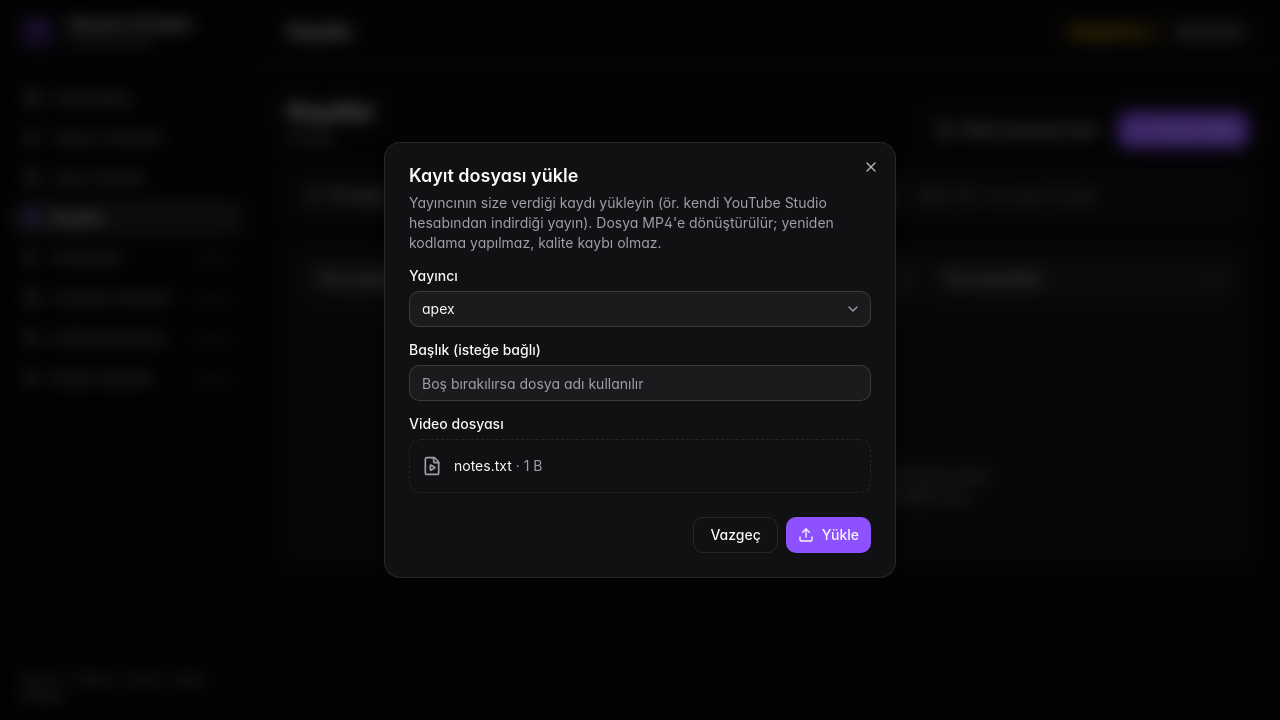
Scenario: RecordingsPage › uploads a file for a permitted streamer only
Earlier steps of the test are not shown.
Later steps or results of the test are not shown.
Click the button "Yükle": (828, 535) [786,517,871,553]
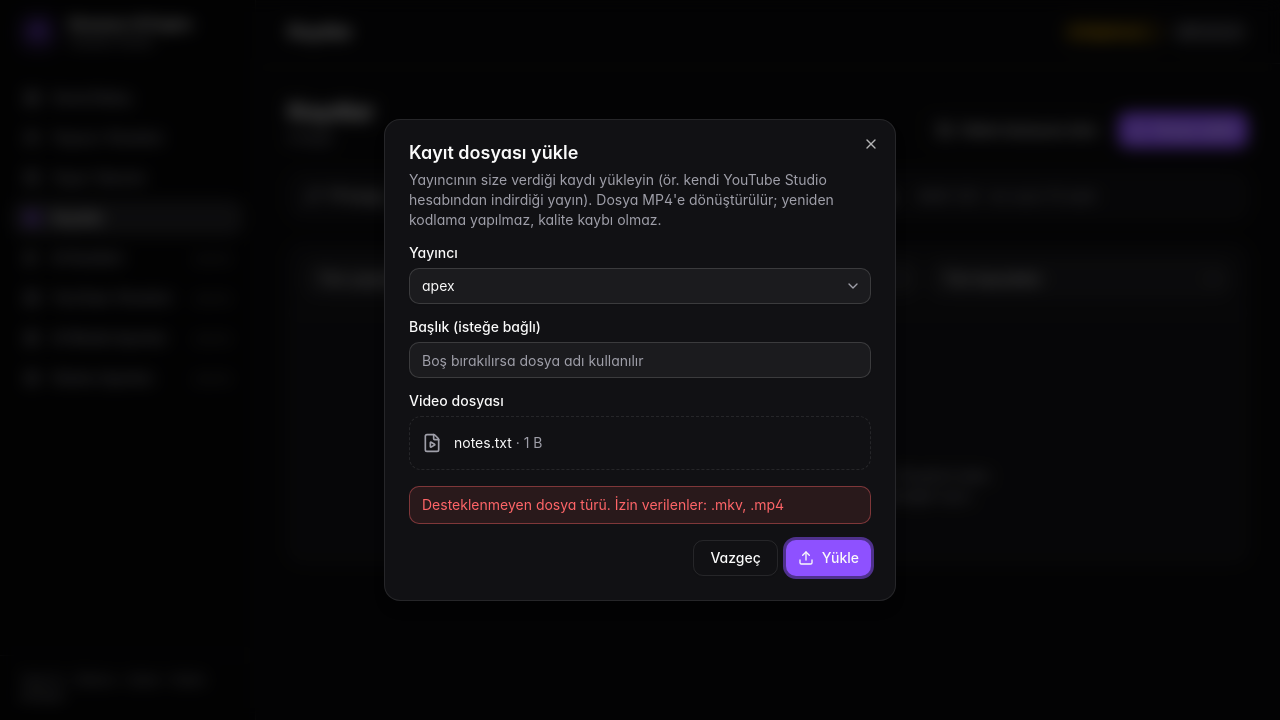
Check: the message shows "Desteklenmeyen dosya türü", box [422,496,784,513]
